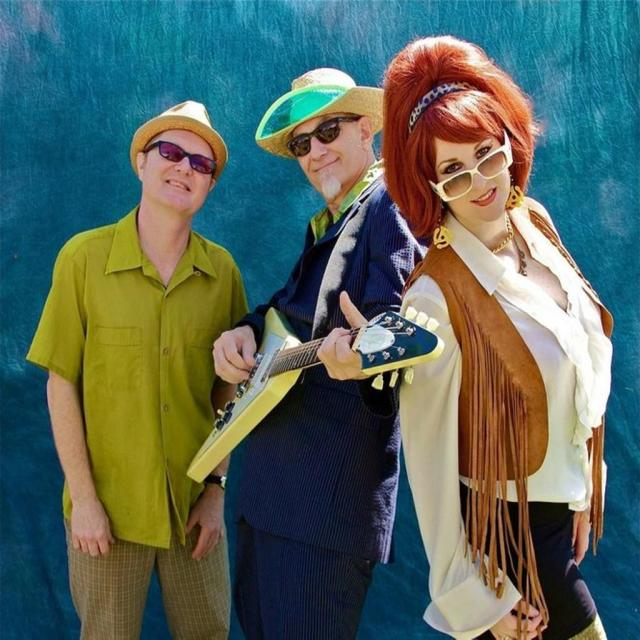Face: (421, 126, 522, 228), (141, 114, 216, 221), (286, 108, 367, 206)
